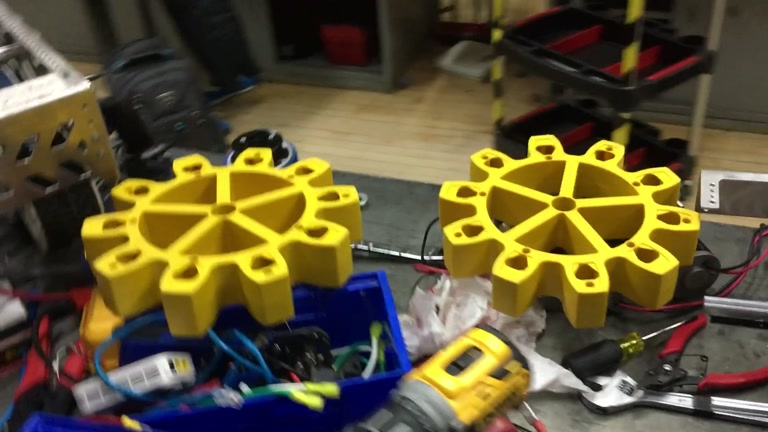gear: (80, 146, 361, 339), (438, 133, 700, 329)
